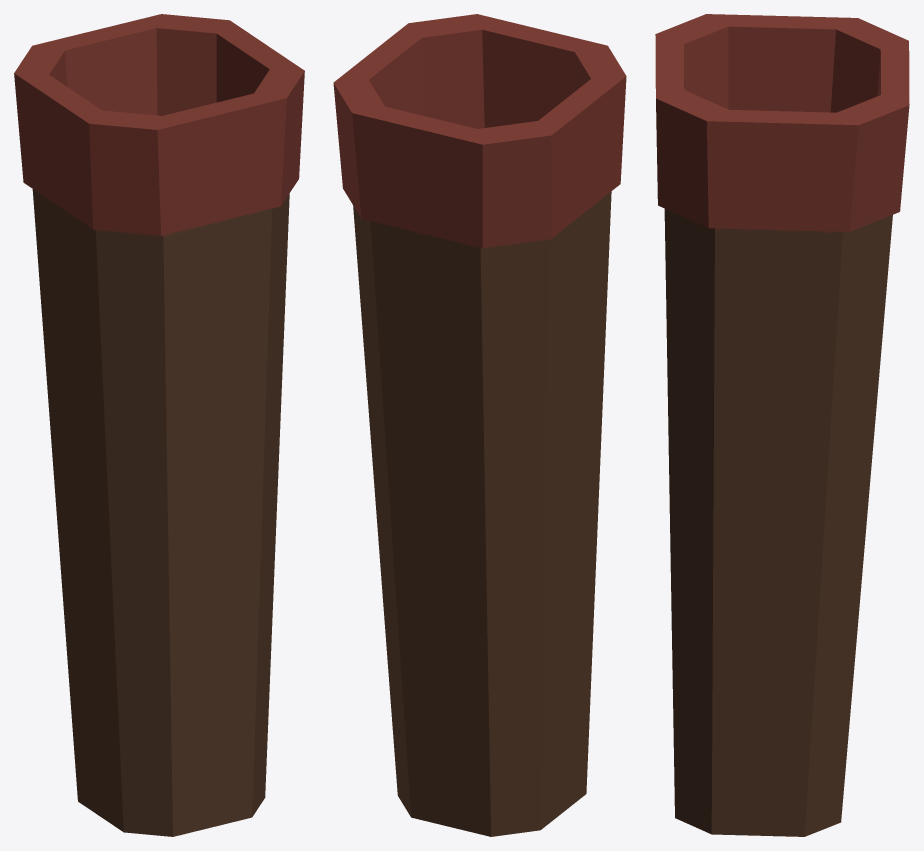
Rendered from Quiver_Red.fbx.
3 views of the same model, side by side, from view 1: azimuth 30°, elevation 25°; view 2: azimuth 150°, elevation 25°; view 3: azimuth 270°, elevation 25° (orthographic).
Visible parts, largest first — view 1: Quiver_Red_Baked; view 2: Quiver_Red_Baked; view 3: Quiver_Red_Baked.
Boxes of the visible parts, x1=… form: Quiver_Red_Baked: x1=14, y1=14, x2=304, y2=836; Quiver_Red_Baked: x1=333, y1=14, x2=626, y2=836; Quiver_Red_Baked: x1=655, y1=14, x2=909, y2=836.
Size of the model in its own units: 12.64 by 40.43 by 12.63.
Materials: 1 (1 with a texture image).
